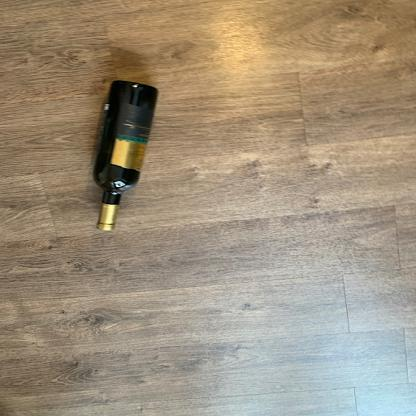trash: (87, 78, 163, 233)
